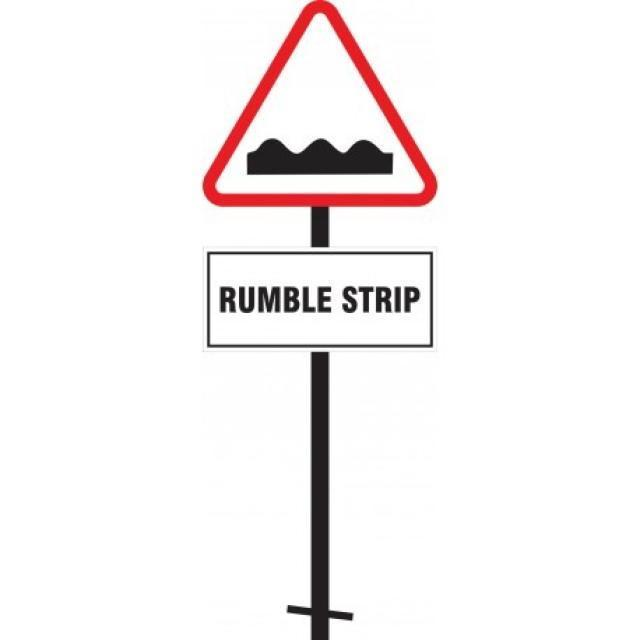hump or rough road: (202, 8, 440, 212)
